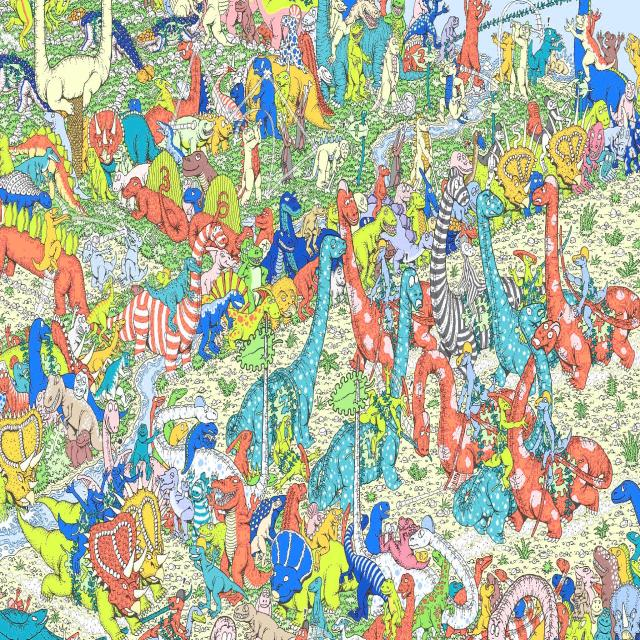waldo: (464, 140, 471, 154)
